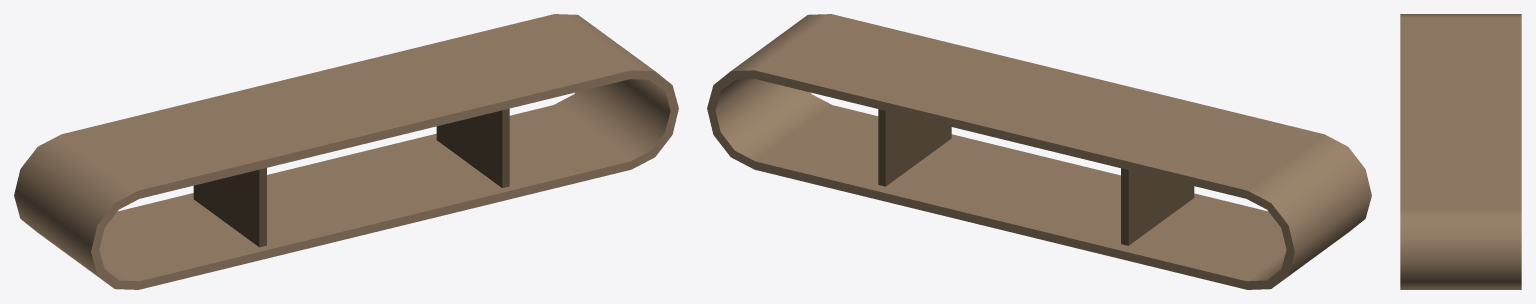
The model's file is shelf.glb.
3 renders of one model, left to right at view 1: azimuth 30°, elevation 25°; view 2: azimuth 150°, elevation 25°; view 3: azimuth 270°, elevation 25°, orthographic. The views are drawn at different scales.
Parts seen in each view (by area): view 1: SM_Shelf:SM_Shelf1; view 2: SM_Shelf:SM_Shelf1; view 3: SM_Shelf:SM_Shelf1.
Part boxes in pixels (bbox=[...]): SM_Shelf:SM_Shelf1: bbox=[14, 14, 678, 289]; SM_Shelf:SM_Shelf1: bbox=[707, 14, 1371, 289]; SM_Shelf:SM_Shelf1: bbox=[1400, 14, 1521, 289].
Size of the model in its own units: 3.63 by 0.5861 by 0.8237.
